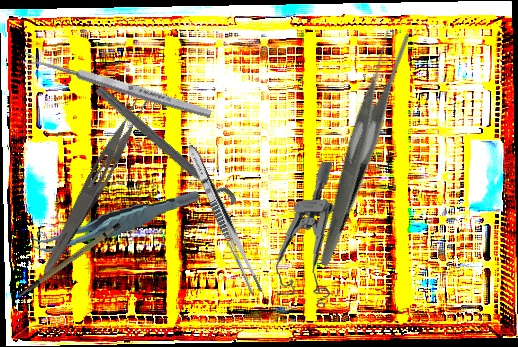Dressing Forceps: (252, 22, 467, 268), (38, 83, 157, 281), (182, 142, 266, 297)
Fixation Ring: (85, 81, 239, 220)
Scalpel Handle: (6, 220, 129, 300)
Speculum: (269, 161, 340, 309)
Surgical Spoon: (22, 50, 213, 121)
Tissue Forceps: (27, 189, 203, 255)
